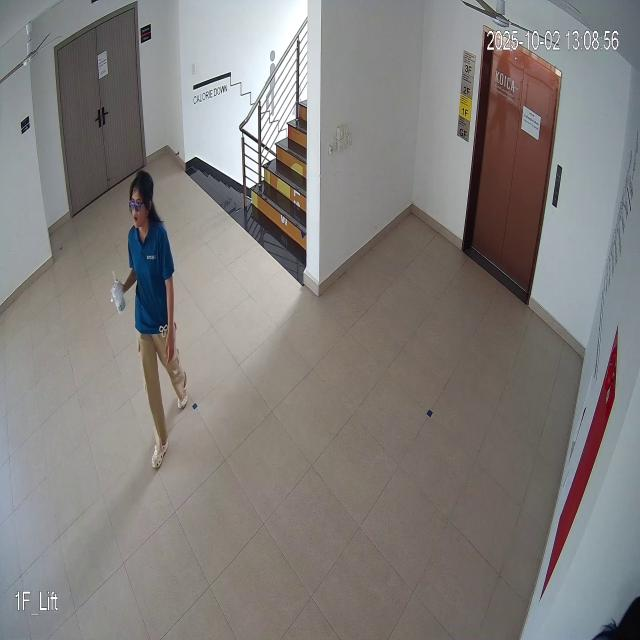face: (125, 166, 155, 237)
